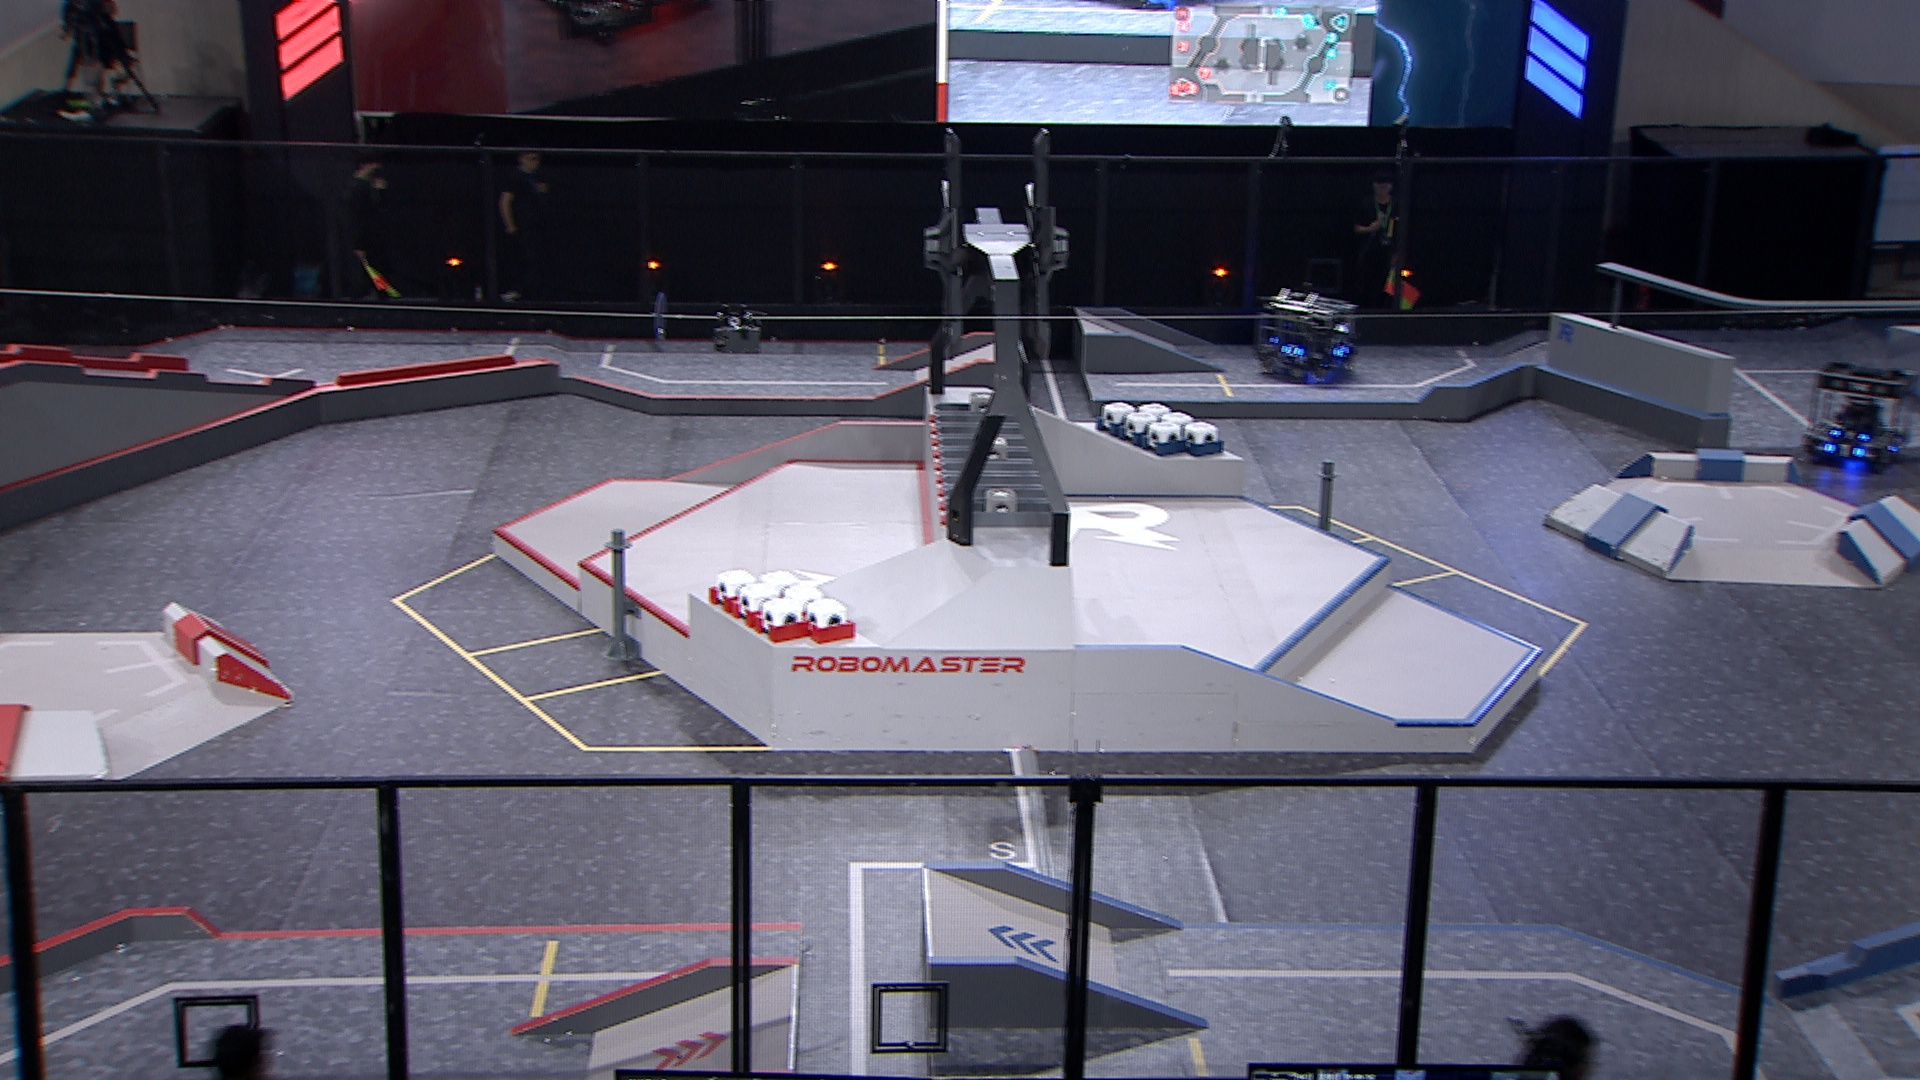armor: (1822, 442, 1865, 458), (1830, 427, 1870, 442), (1280, 343, 1305, 357), (1332, 343, 1348, 357)
car: (1797, 357, 1915, 477), (1255, 287, 1360, 384)
